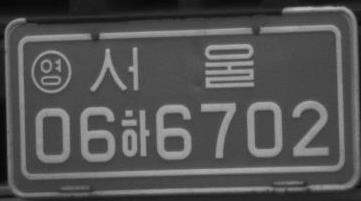0: (245, 101, 283, 158), (34, 106, 70, 164)
2: (291, 99, 330, 157)
6: (79, 105, 116, 162), (155, 103, 192, 159)
7: (200, 101, 237, 160)
서울_D: (90, 42, 254, 94)
영: (29, 49, 72, 94)
하: (121, 108, 149, 157)
